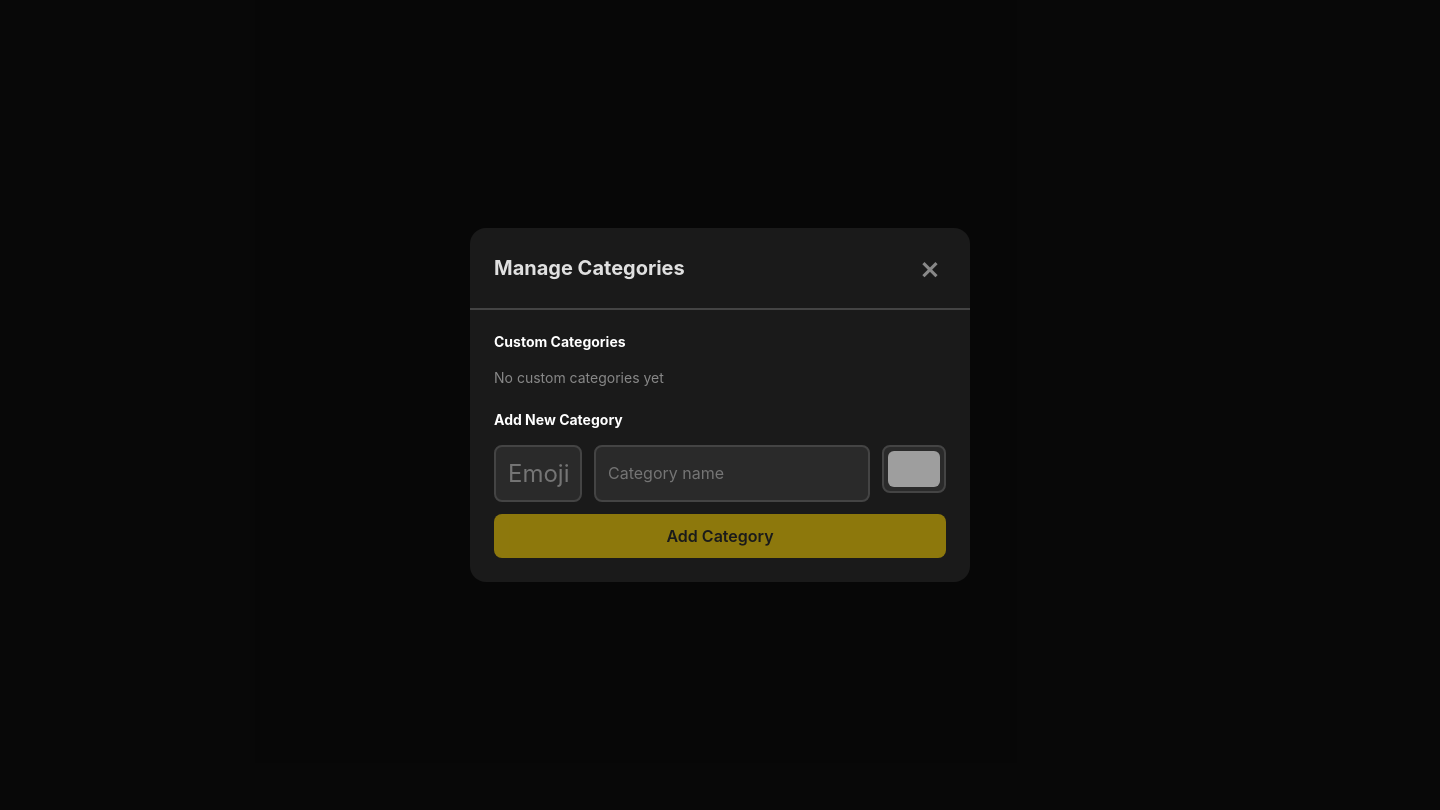
it: CategoryManager › should add a new category
Type "🐾" into the field with placeholder "Emoji" at (538, 473), box [494, 445, 582, 502]
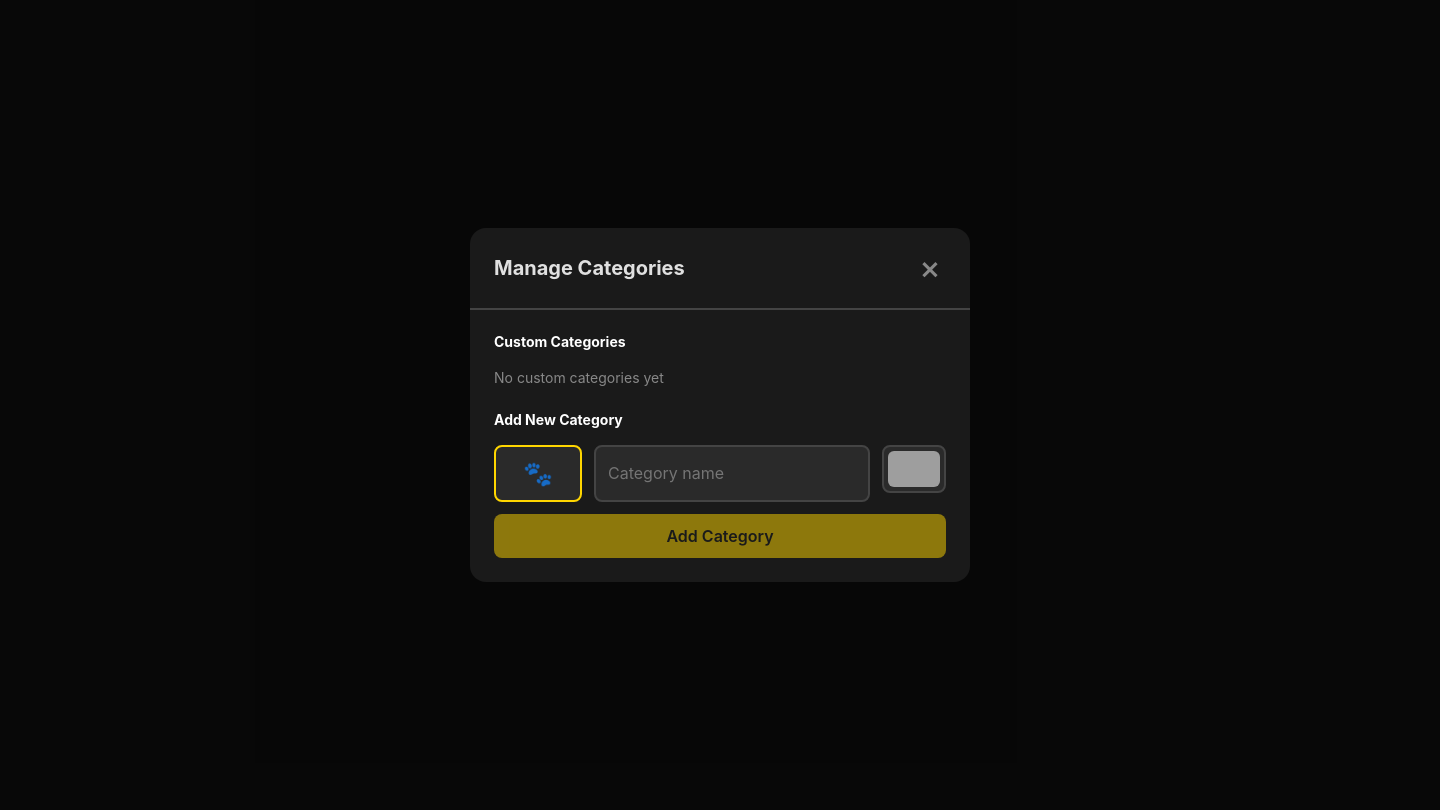
Type "Pet Supplies" into the field with placeholder "Category name" at (732, 473), box [594, 445, 870, 502]
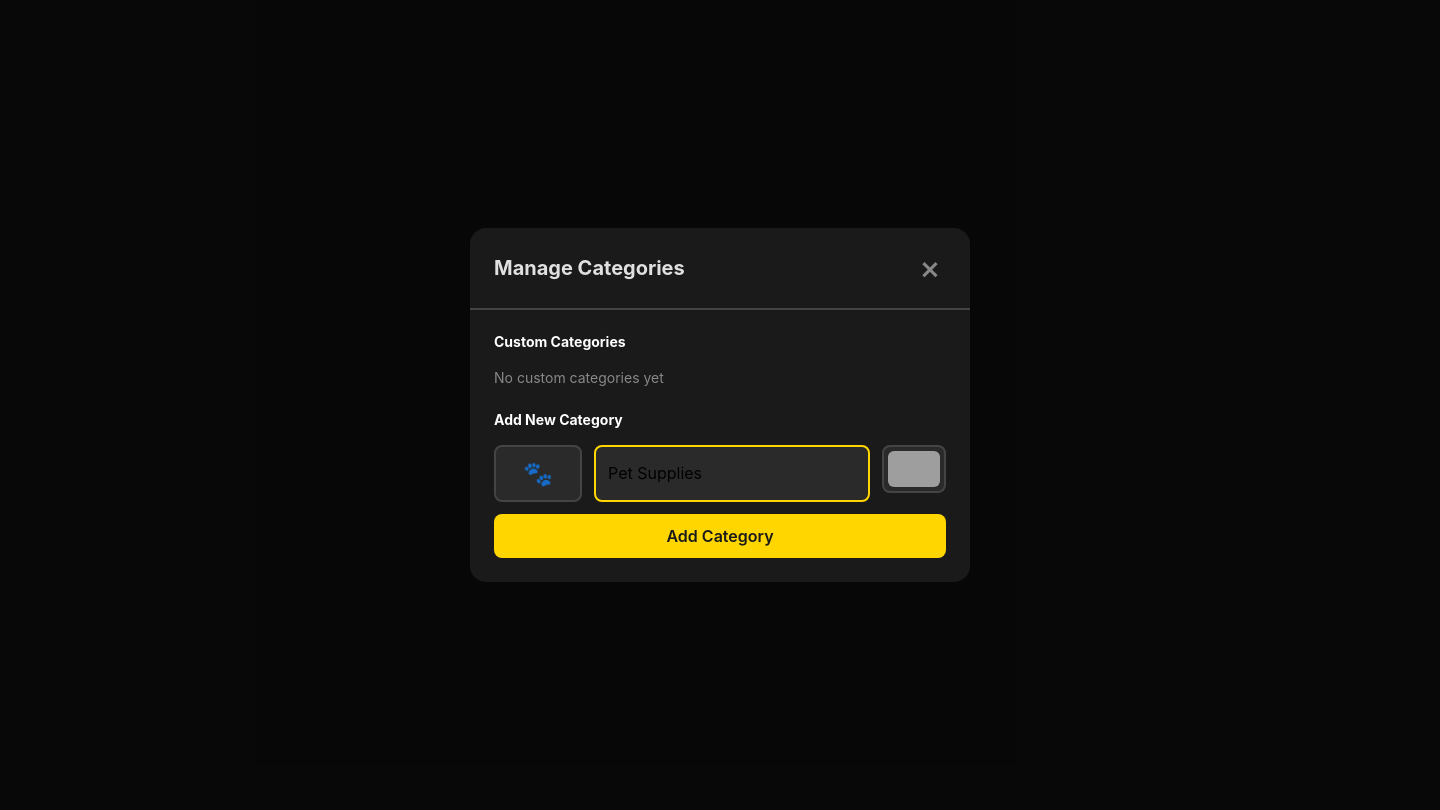
Click the button "Add Category" at (720, 536), box [494, 514, 946, 558]
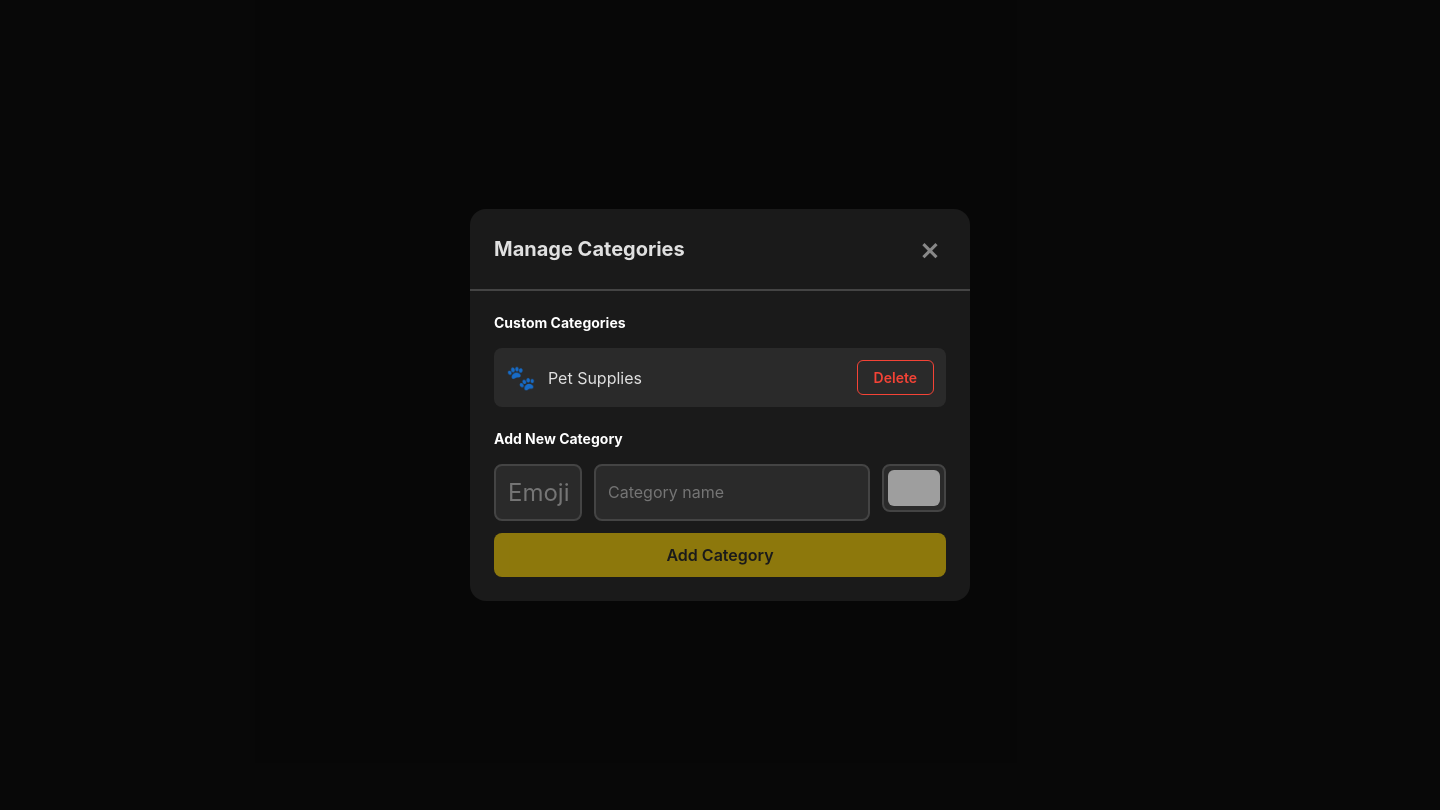
Expected: the text "Pet Supplies" is shown, [548, 366, 642, 390]
